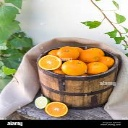orange: (46, 102, 69, 118), (39, 55, 63, 70)
